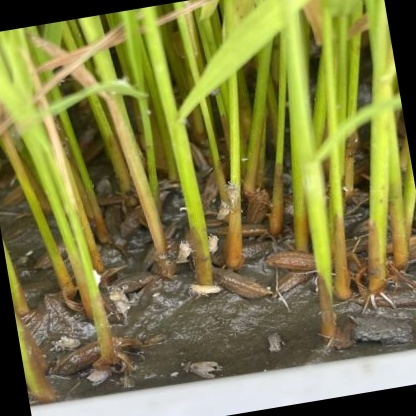Brown_hopper: (173, 353, 230, 386), (183, 274, 230, 309), (81, 367, 117, 389), (49, 334, 85, 355), (172, 234, 196, 264), (262, 331, 288, 357), (224, 179, 246, 209), (204, 229, 224, 260), (215, 199, 236, 221)
